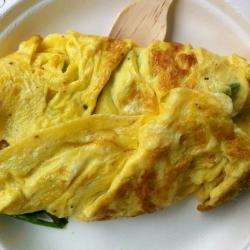omelette: (5, 40, 250, 221)
